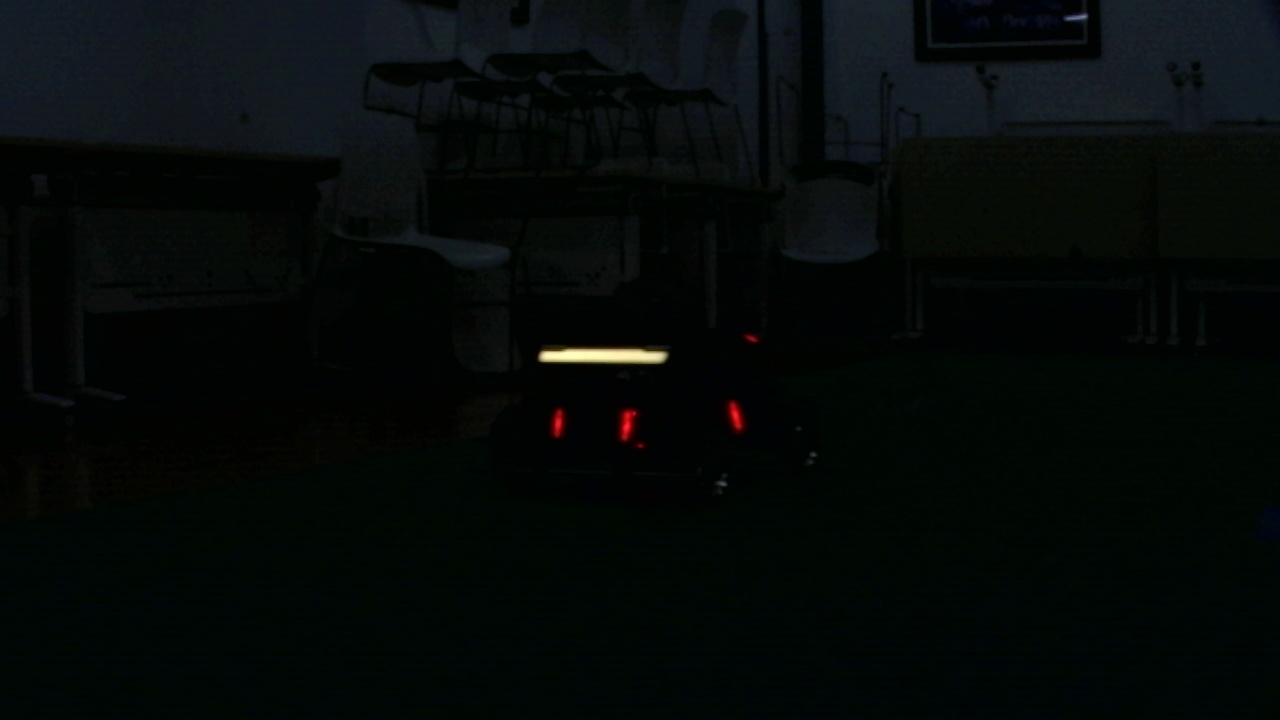lamp: (723, 397, 749, 437), (549, 401, 566, 438), (620, 406, 635, 443)
pair1: (552, 407, 638, 442)
